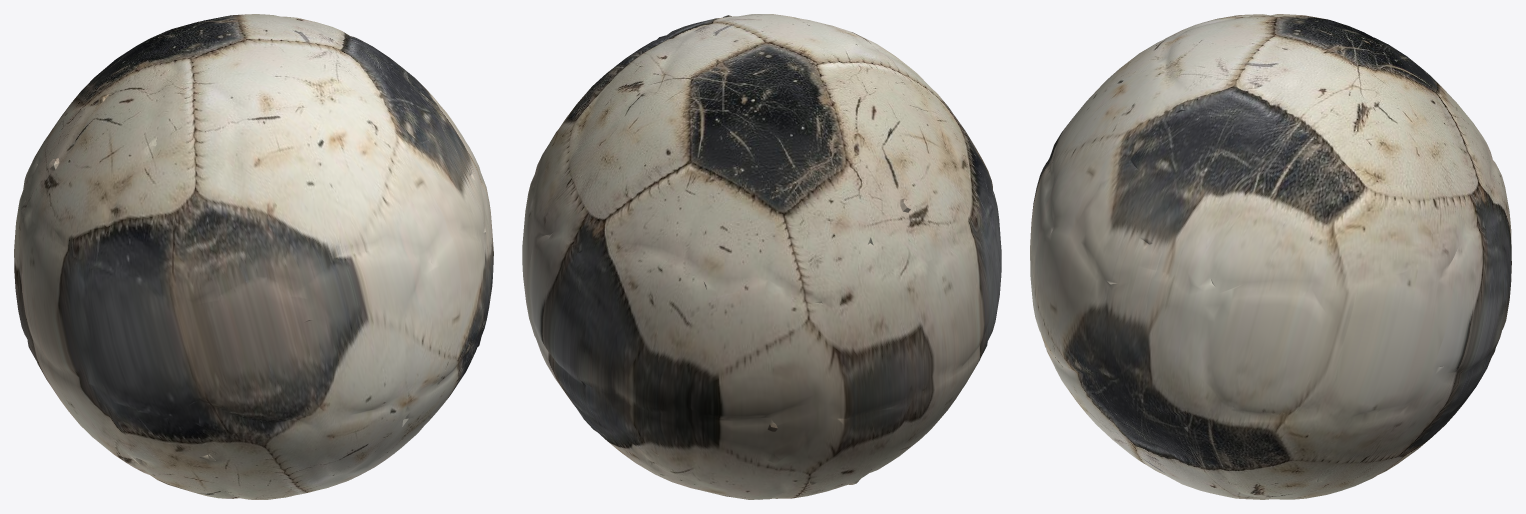
File: bola-512.glb
The picture shows the model from 3 angles, left to right: view 1: azimuth 30°, elevation 25°; view 2: azimuth 150°, elevation 25°; view 3: azimuth 270°, elevation 25°; orthographic projection.
Visible parts, largest first — view 1: bola; view 2: bola; view 3: bola.
Part boxes in pixels (x1,y1,x2,y2): bola: [14, 14, 493, 499]; bola: [522, 14, 1001, 499]; bola: [1030, 14, 1511, 499].
Size of the model in its own units: 0.22 by 0.2198 by 0.2198.
1 material, 1 textured.
